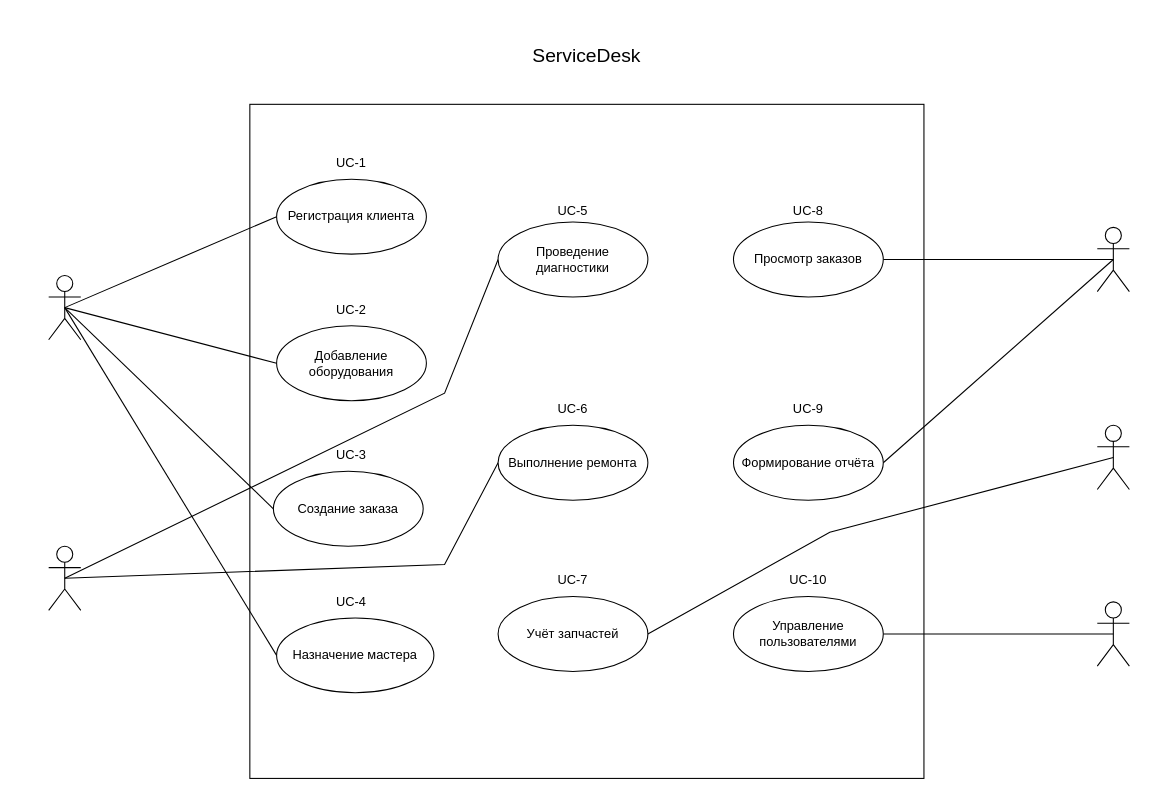
The diagram is 1173 pixels wide and 797 high, and some of its shapes have lost their labels. Each missing label, with the centre of its shape:
"Администратор" belongs at (x=64, y=307).
"Кладовщик" belongs at (x=1112, y=457).
"Мастер" belongs at (x=64, y=577).
"Руководитель" belongs at (x=1112, y=259).
"Сис. админ" belongs at (x=1112, y=633).
